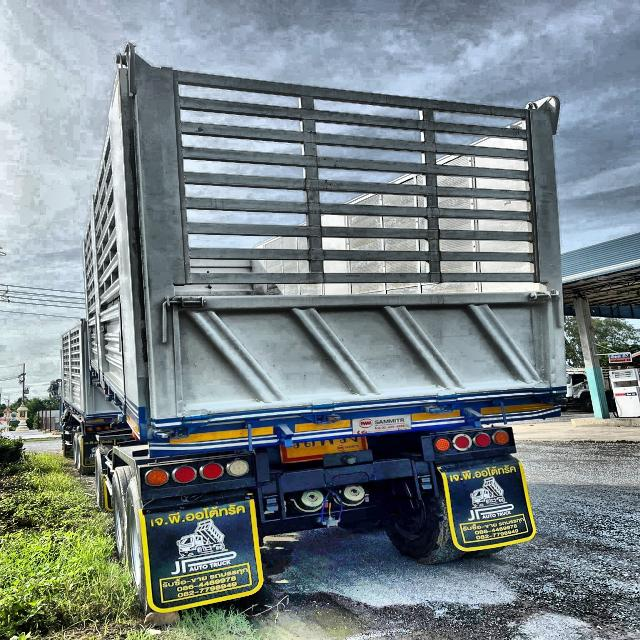trailer: (50, 32, 568, 615)
